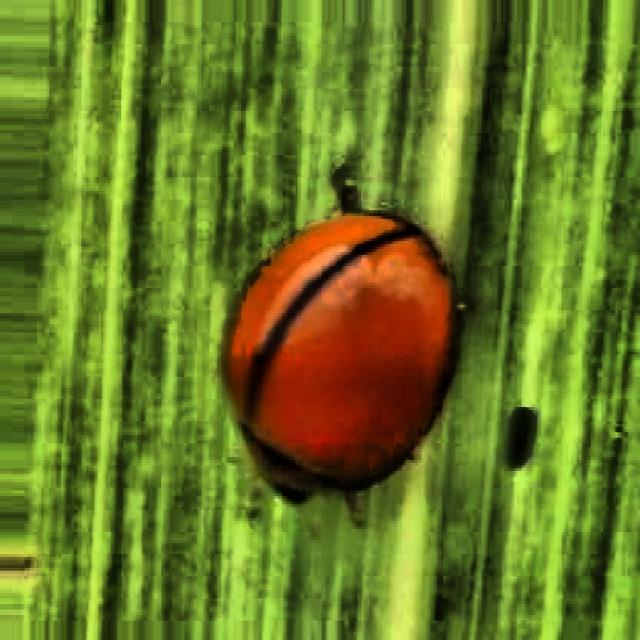Ladybug: (152, 114, 503, 586)
